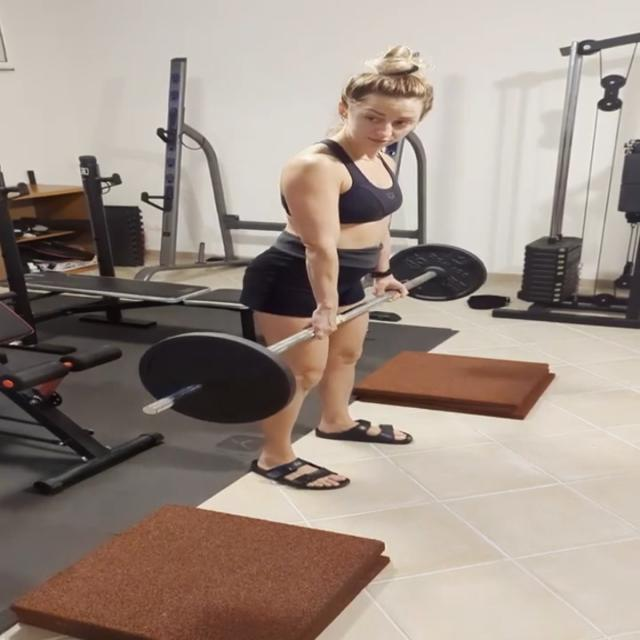barbell: (130, 328, 301, 430)
